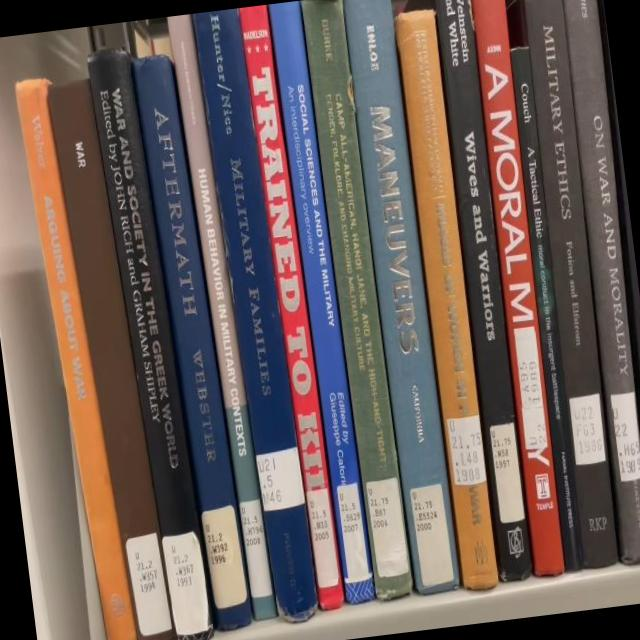book: (191, 8, 325, 623), (86, 47, 215, 640), (46, 80, 177, 640), (342, 0, 463, 595), (130, 53, 254, 631), (13, 77, 137, 640), (301, 0, 414, 600), (167, 13, 277, 620), (238, 4, 345, 611), (269, 0, 375, 604), (394, 9, 499, 591), (435, 0, 533, 582), (522, 0, 619, 568), (471, 0, 565, 576), (561, 0, 640, 563), (508, 46, 585, 572), (586, 0, 640, 434)
